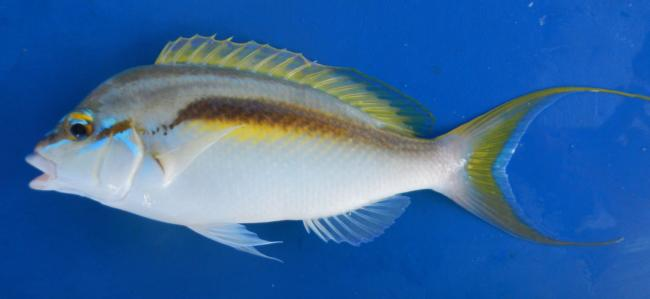fish: (22, 32, 649, 265)
